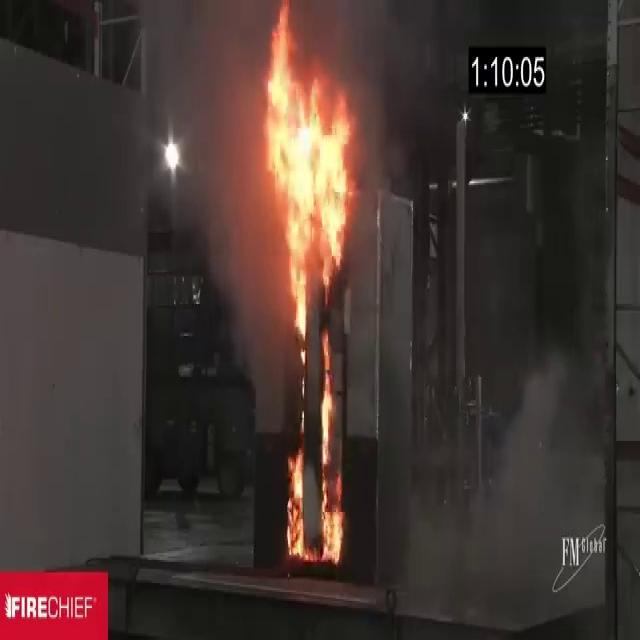fire: (245, 2, 374, 574)
